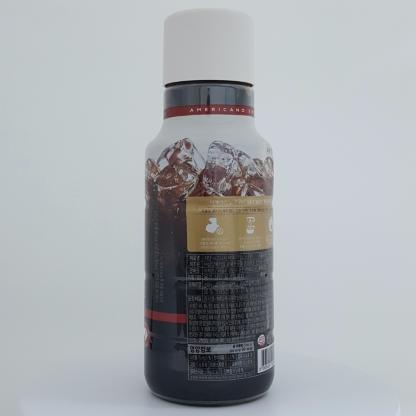--------------1-1L: (144, 8, 274, 406)
